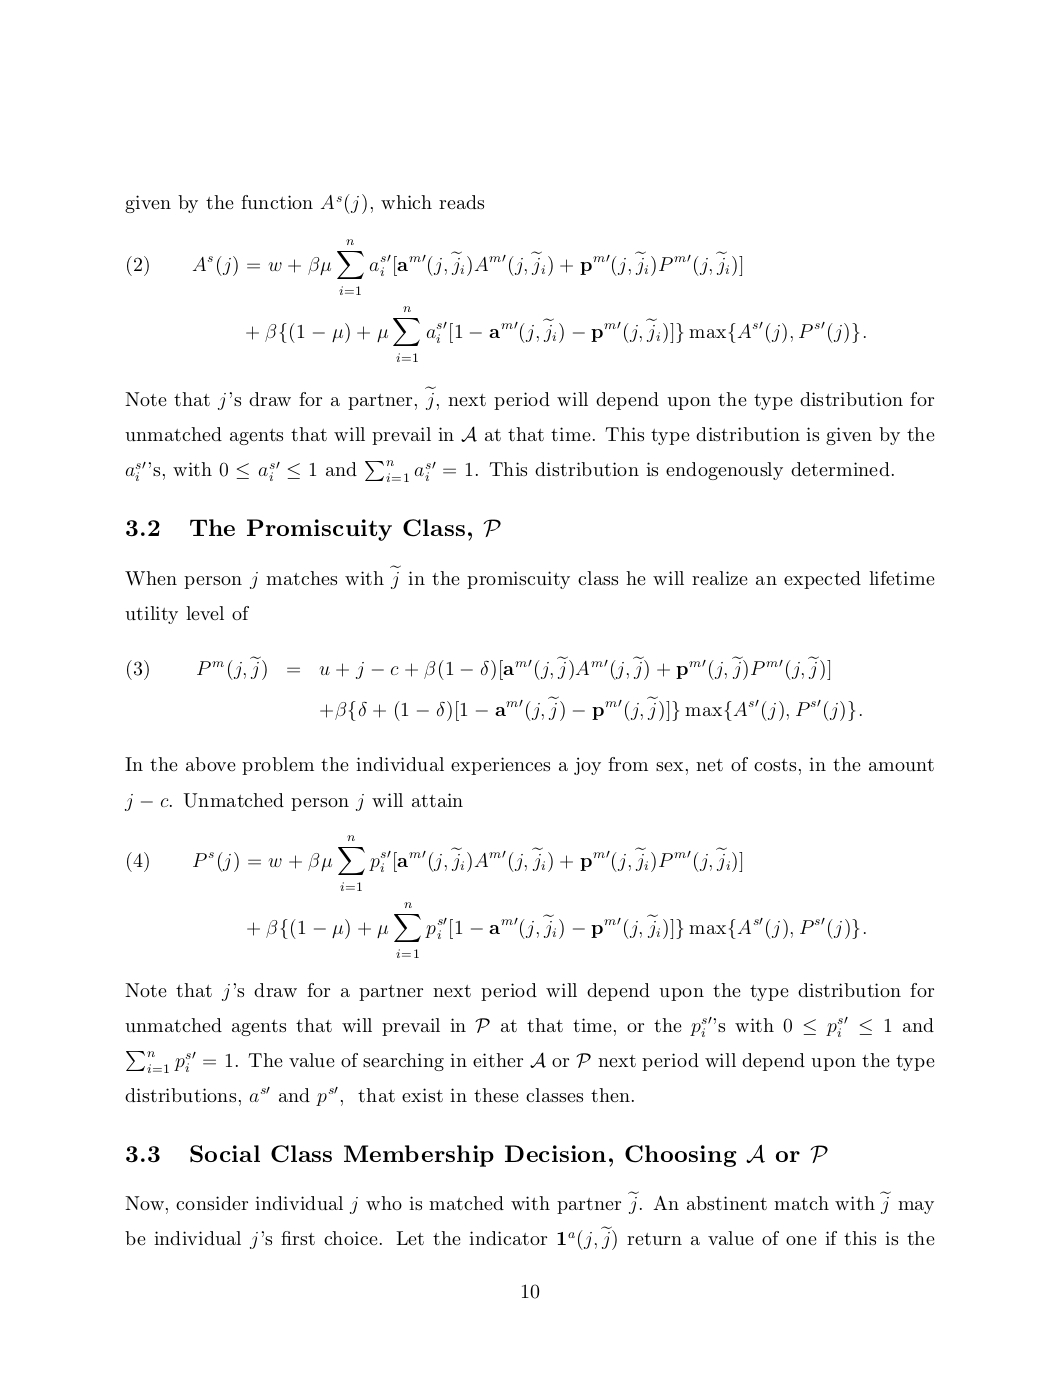formula: (247, 902, 865, 957), (127, 238, 742, 294), (127, 835, 742, 890), (246, 306, 865, 361), (127, 655, 830, 680), (320, 695, 862, 721)
